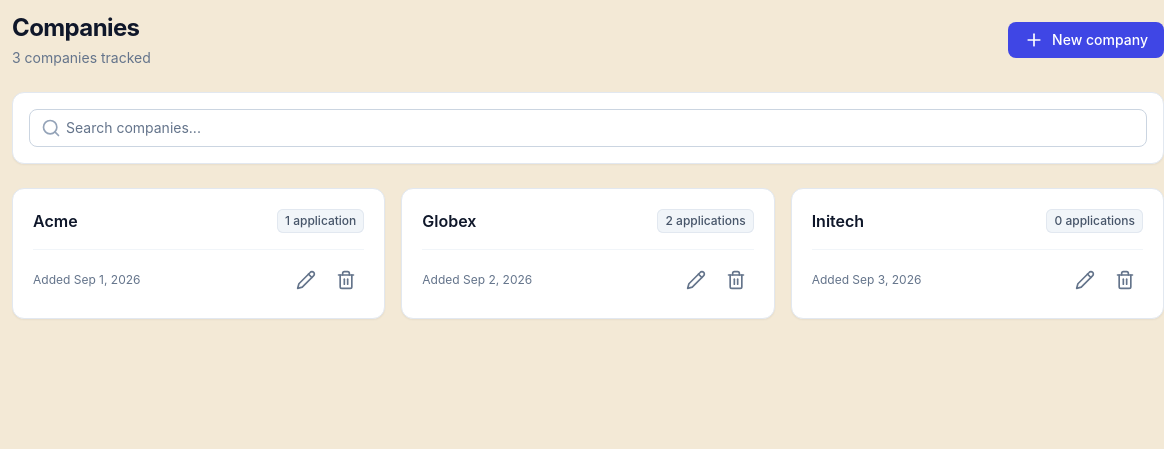
it: Companies search › shows an empty state when nothing matches and Clear restores the list
Expected: the link "Acme" is shown, [33, 209, 78, 233]
Type "zzz" into the field labelled "Search companies". click: (588, 128)
box: [29, 109, 1147, 147]
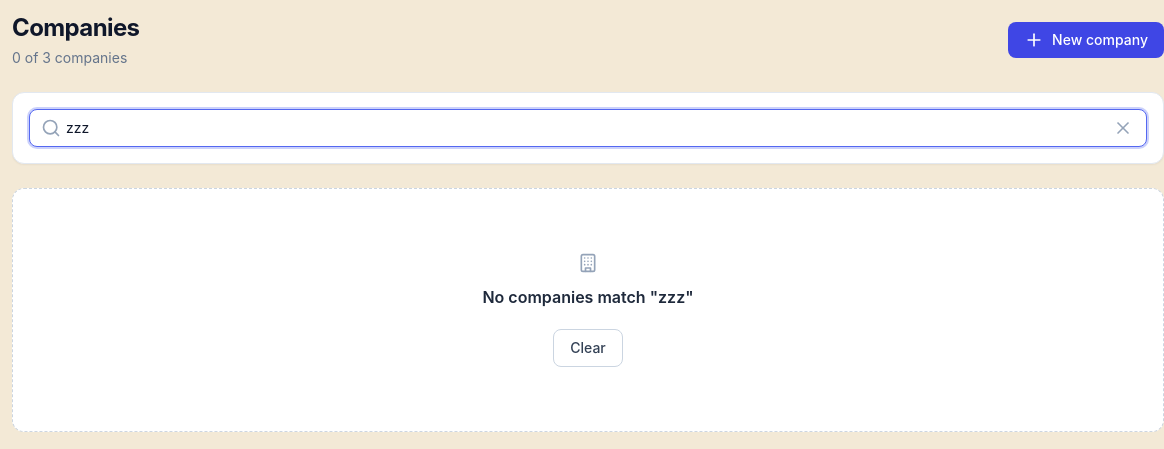
Result: the heading "No companies match \"zzz\"" is shown at [482, 285, 694, 309]
Result: the link "Acme" is gone
Click the button "Clear". click: click(588, 348)
box: [553, 329, 623, 367]
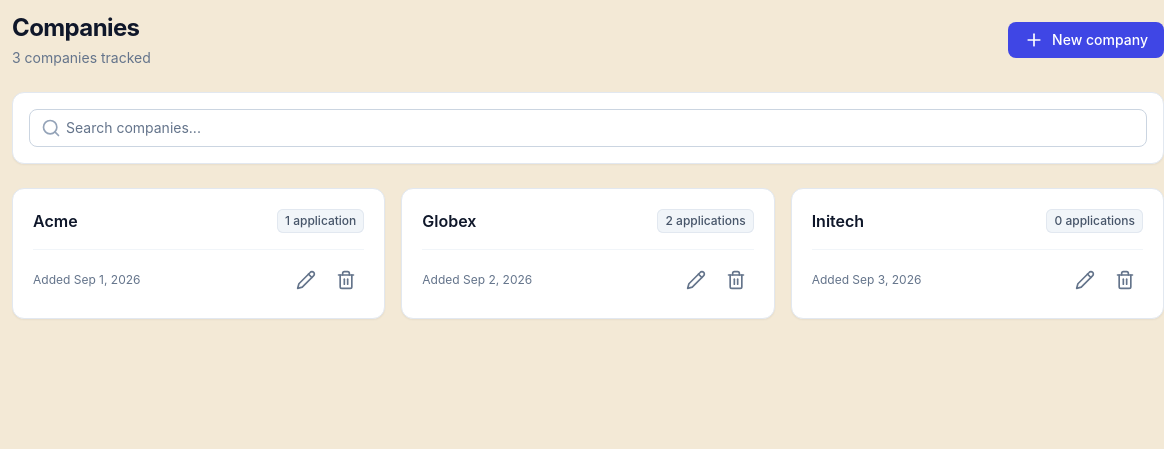
Result: the link "Acme" is shown at [33, 209, 78, 233]
Result: the link "Globex" is shown at [422, 209, 476, 233]
Result: the link "Initech" is shown at [812, 209, 864, 233]
